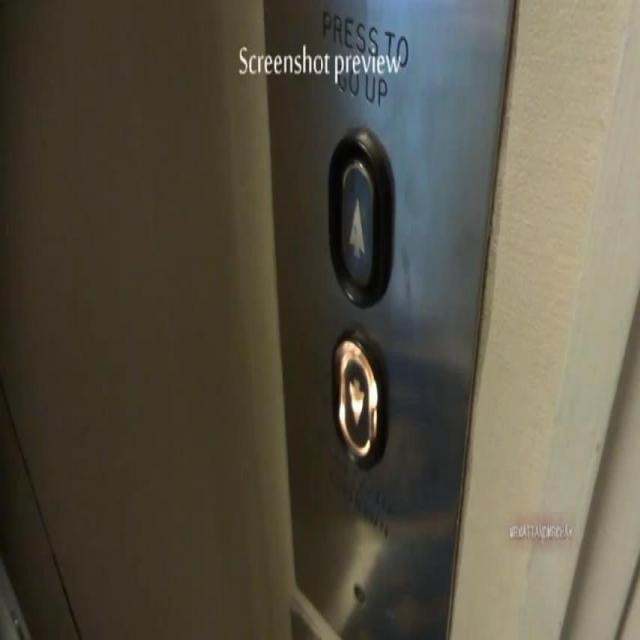down: (332, 323, 390, 472)
up: (328, 128, 394, 309)
